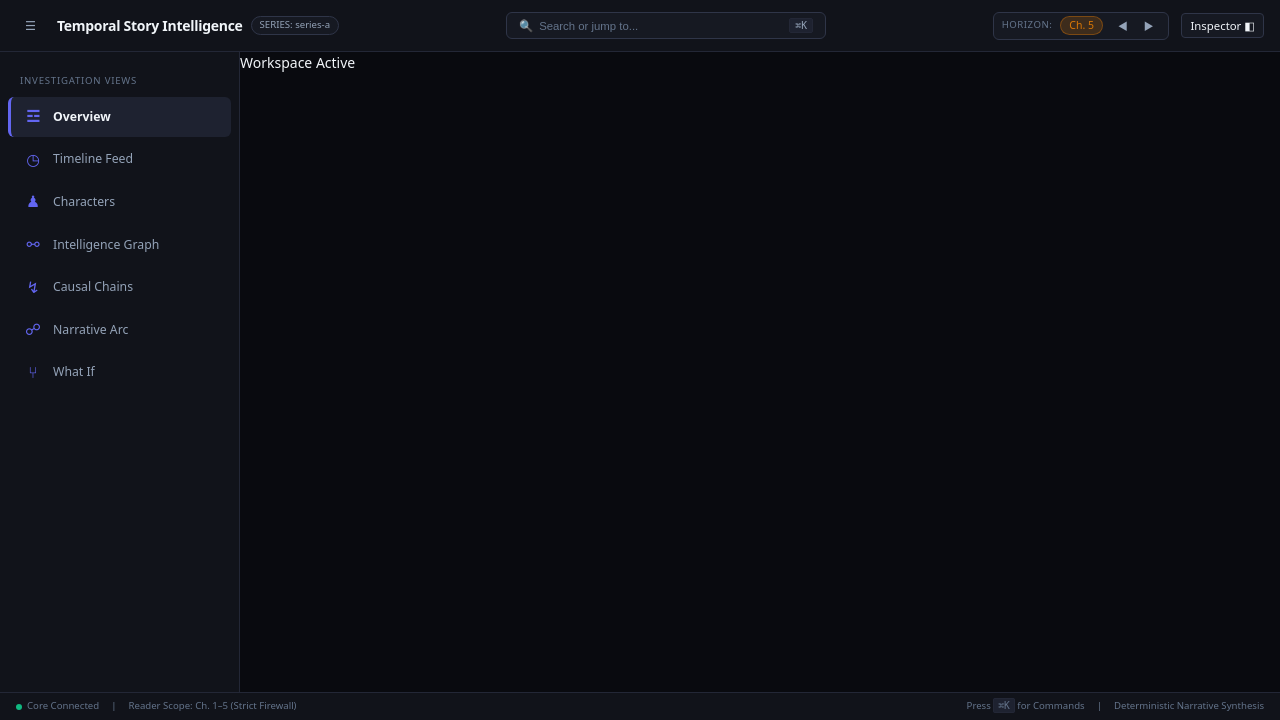
Test: Application Shell & Navigation UX (Phase 6.2) › steps temporal horizon forward and backward using header controls
Expected: the button titled "Step backward one chapter" is enabled, [1111,16,1135,36]
What coordinates should you click on to do the following:
click the button titled "Step forward one chapter"
I would click on:
 (1149, 26)
Its box is [1137,16,1160,36].
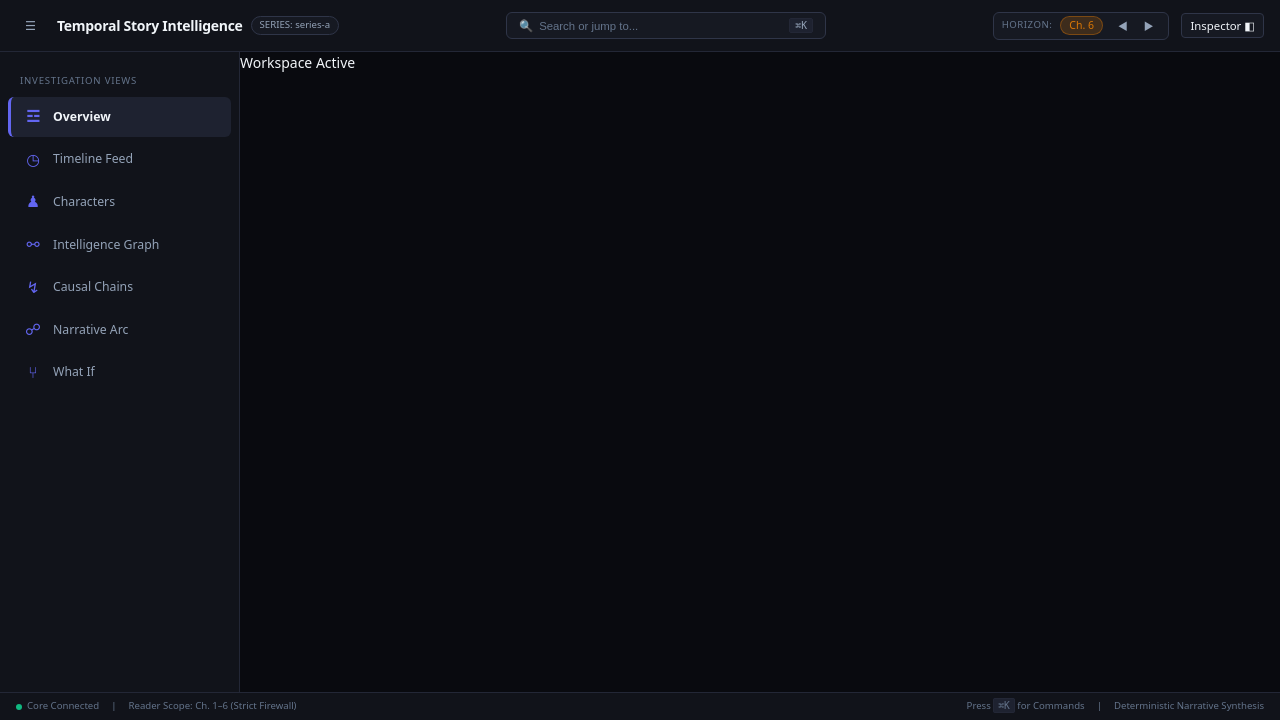
Expected: the text "Ch. 6" is shown, [1060,16,1103,35]
What coordinates should you click on to do the following:
click the button titled "Step backward one chapter"
I would click on:
 (1123, 26)
Its box is [1111,16,1135,36].
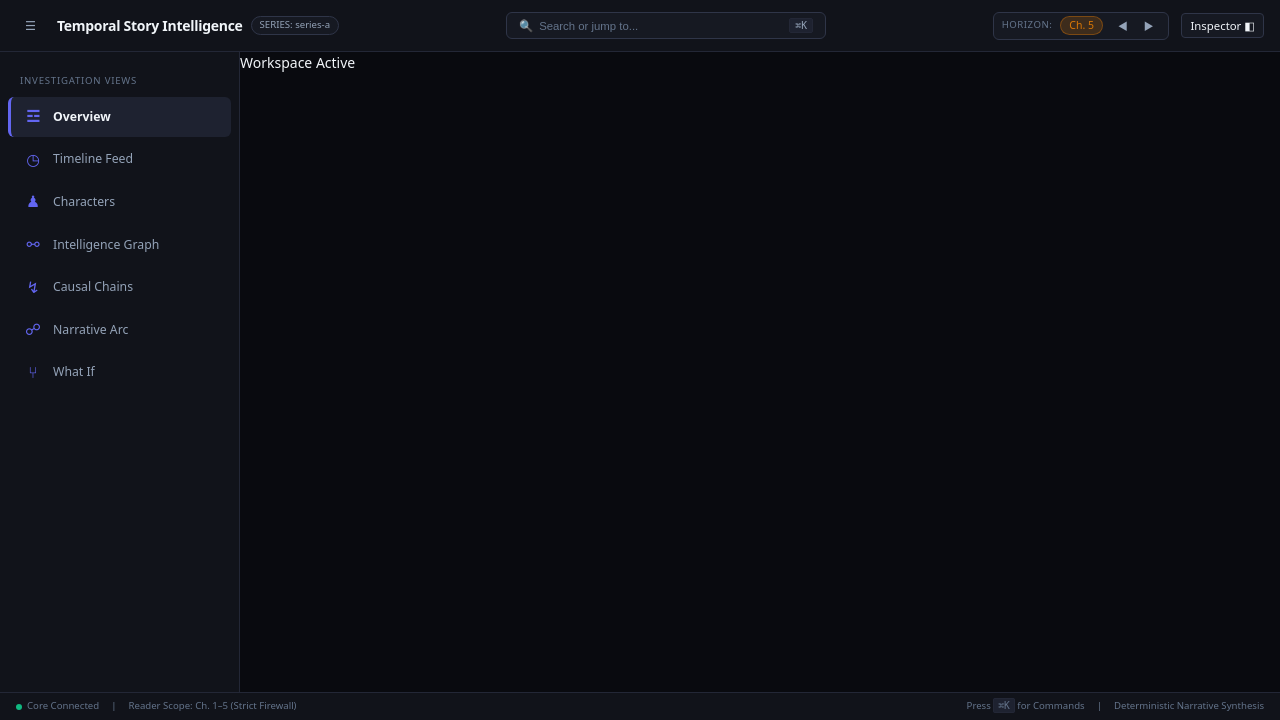
Expected: the text "Ch. 5" is shown, [1060,16,1103,35]
